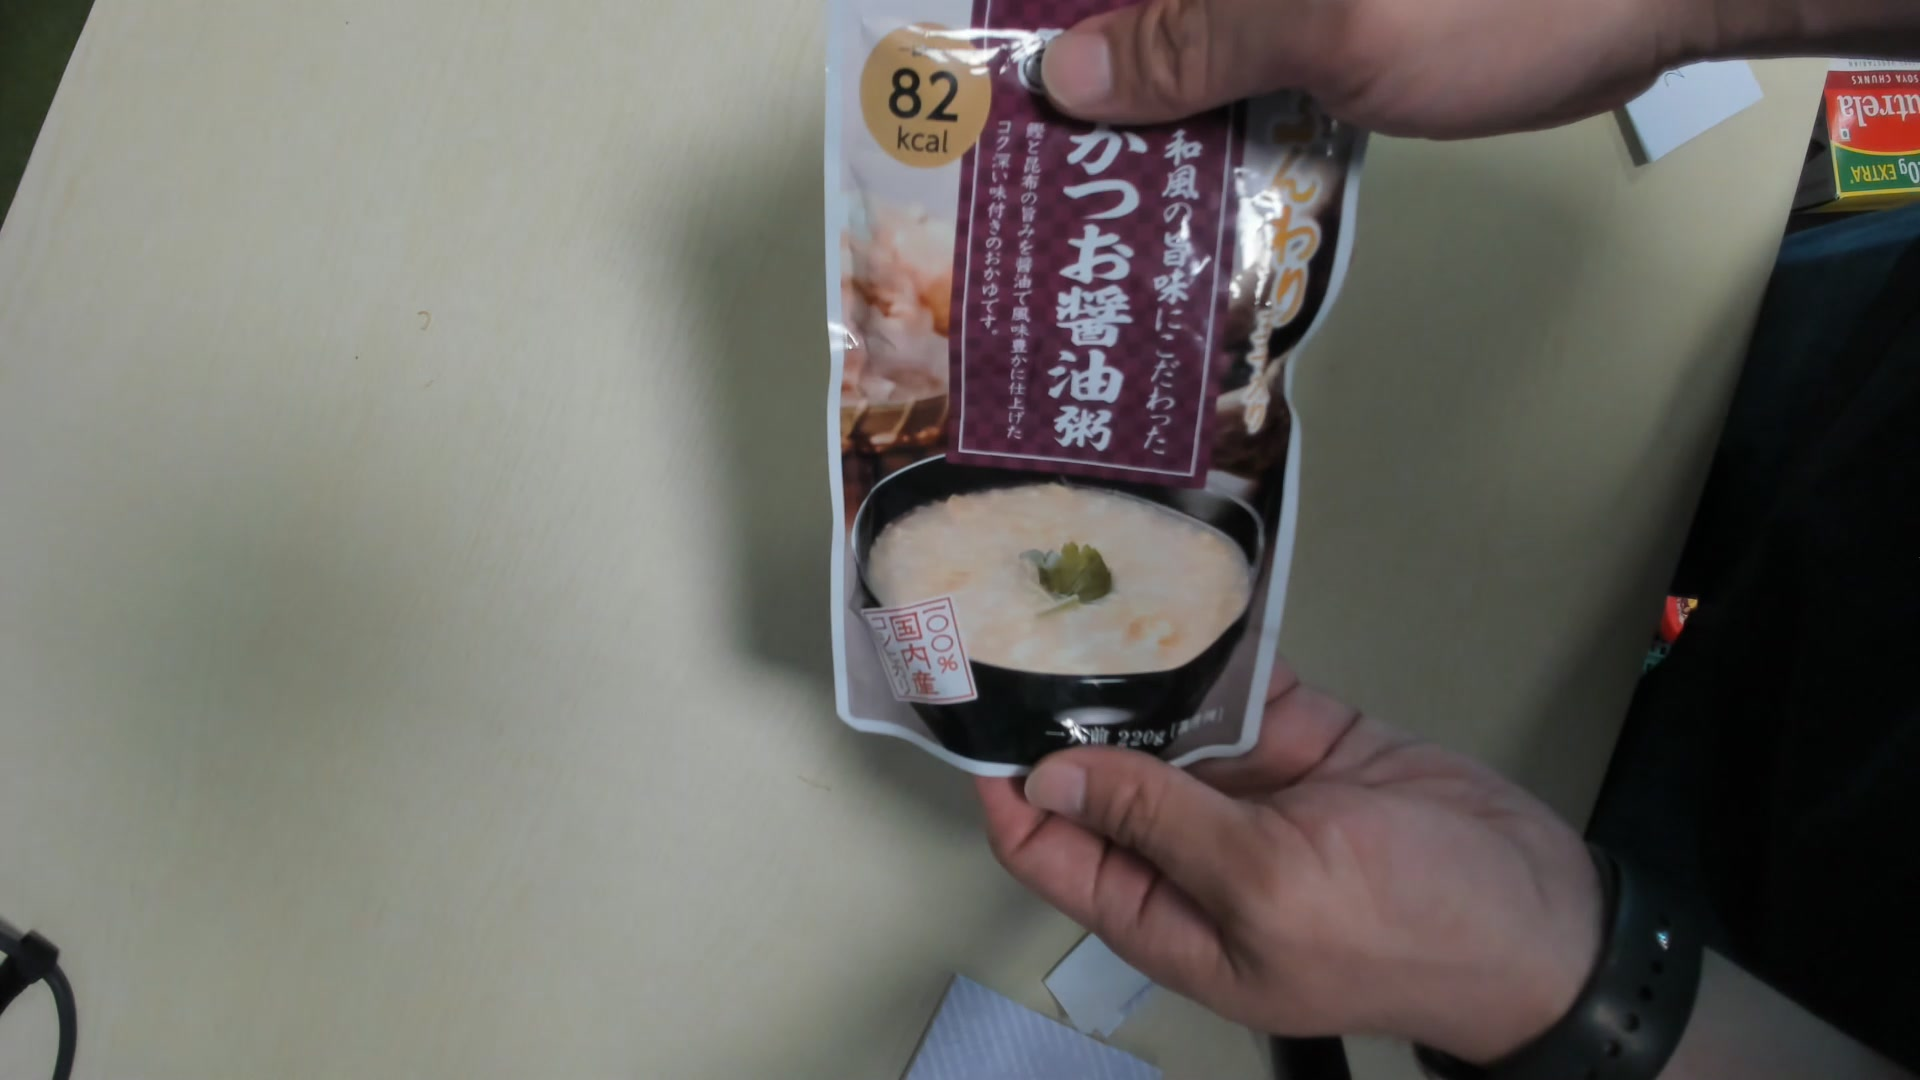InstantMeals_200_299g_NonHalal_NonHealthy: (822, 21, 1367, 781)
